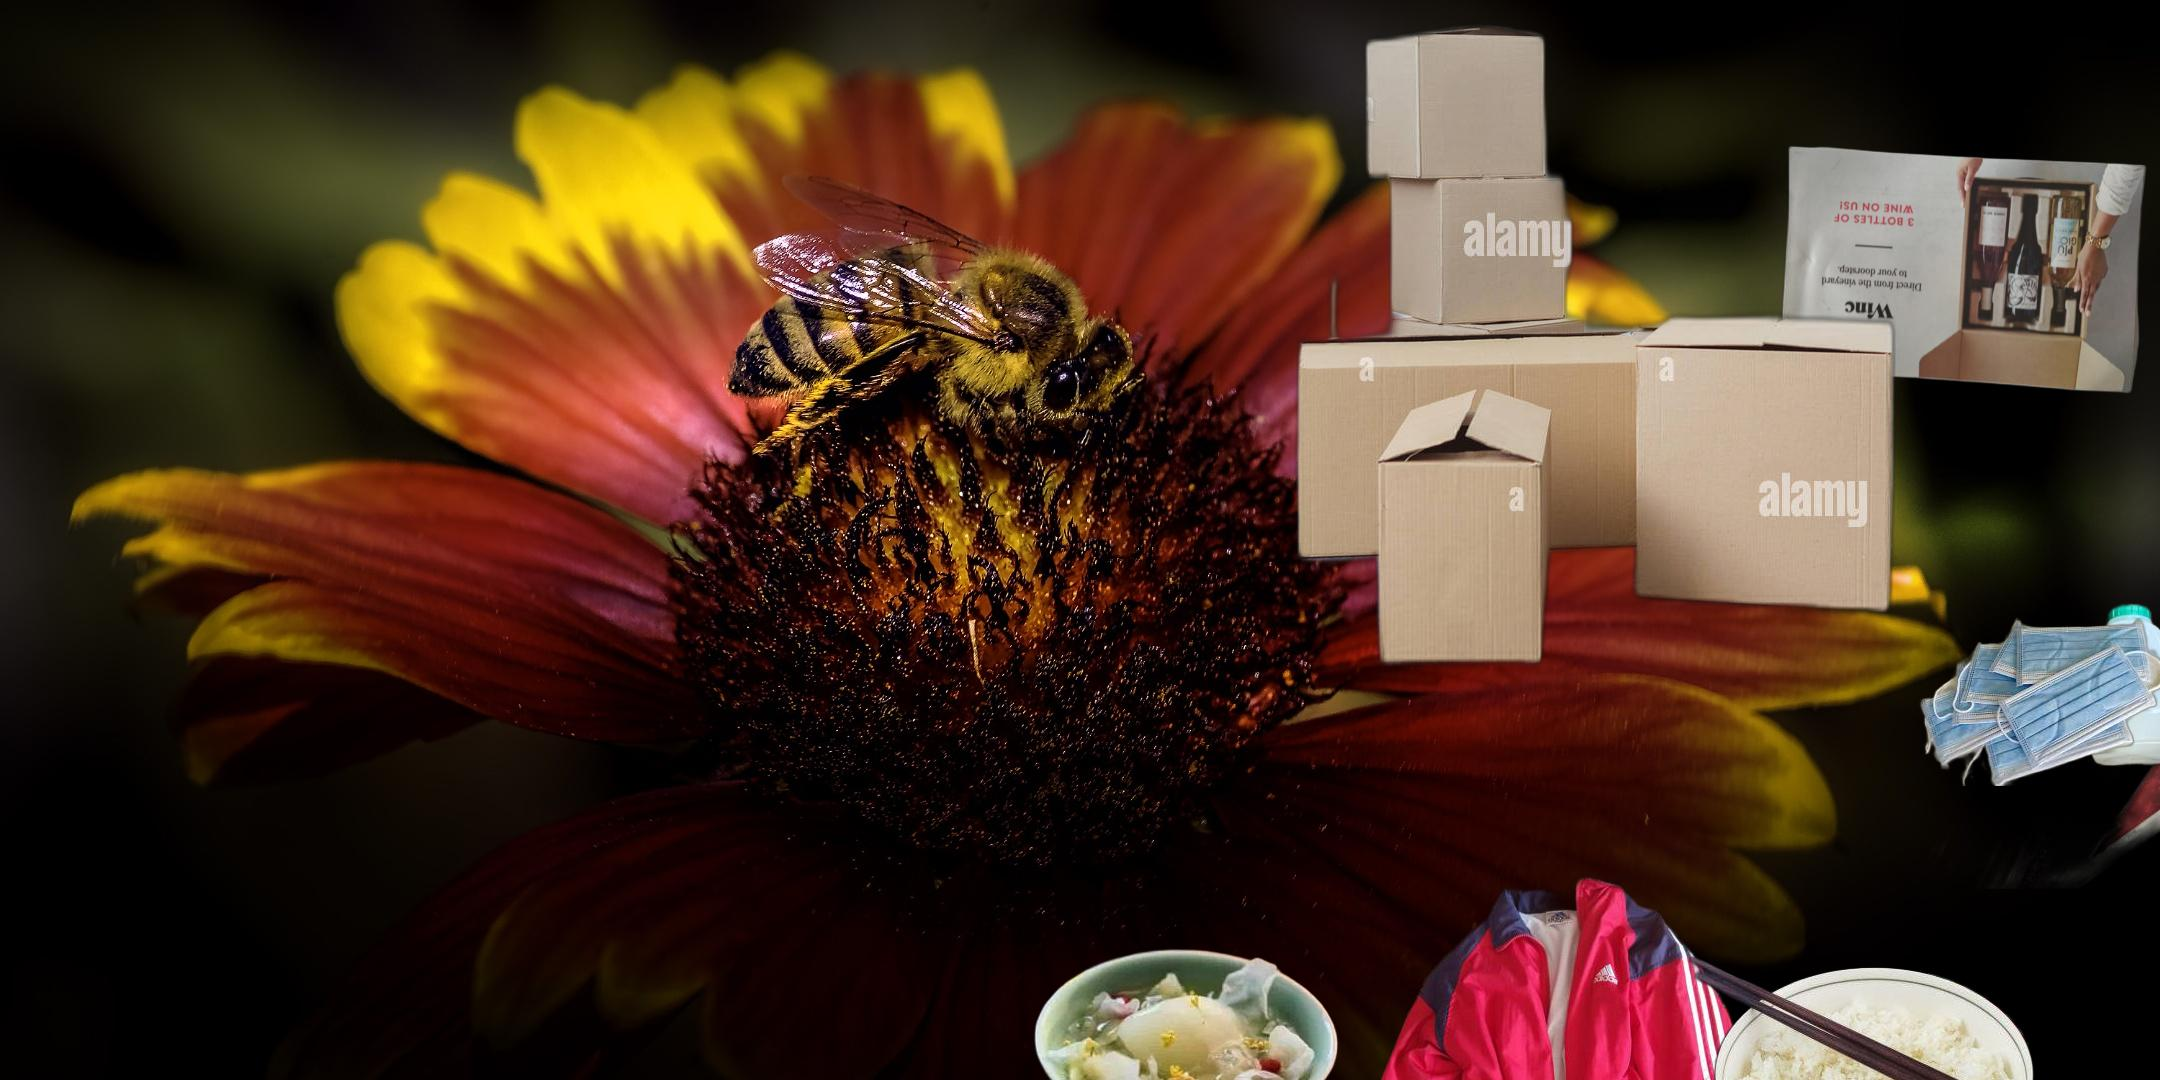biological: (1685, 908, 2160, 1080), (1030, 946, 1342, 1080)
clothes: (1346, 871, 1745, 1080)
paper: (1873, 506, 2160, 889), (1776, 143, 2150, 397)
plastic-bottles: (2084, 596, 2160, 773)
trash: (1913, 619, 2160, 787)
trashbox-cardboard: (1289, 12, 1902, 678)
